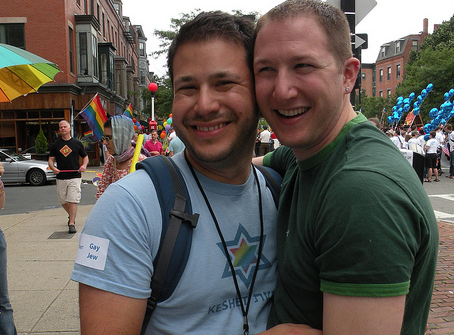bare: (255, 79, 346, 149), (171, 98, 257, 162)
